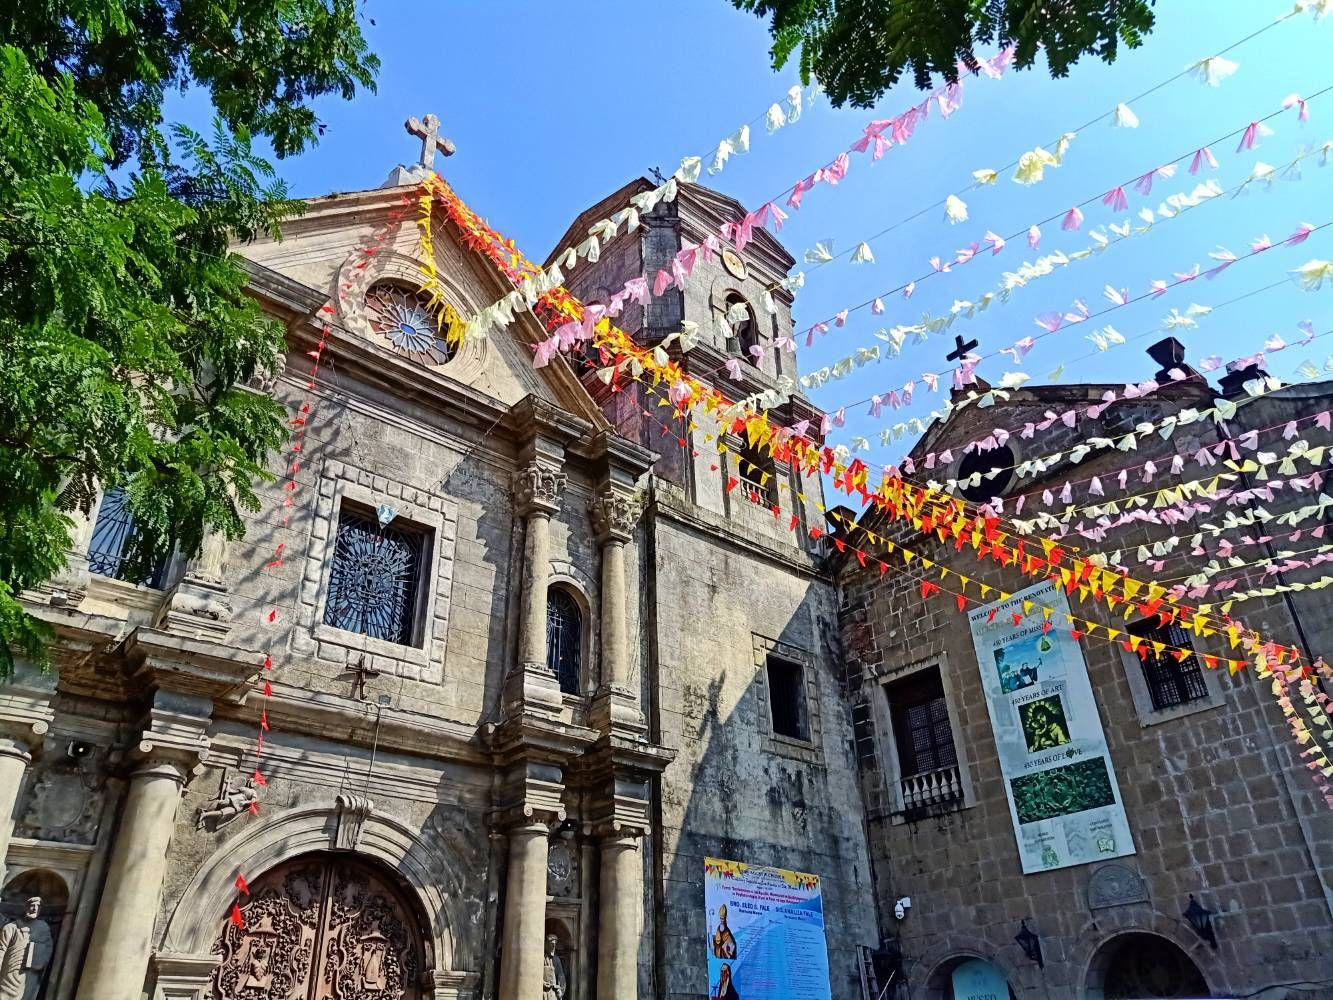Crack: (821, 616, 882, 704)
San Agustin Church: (140, 98, 904, 997)
